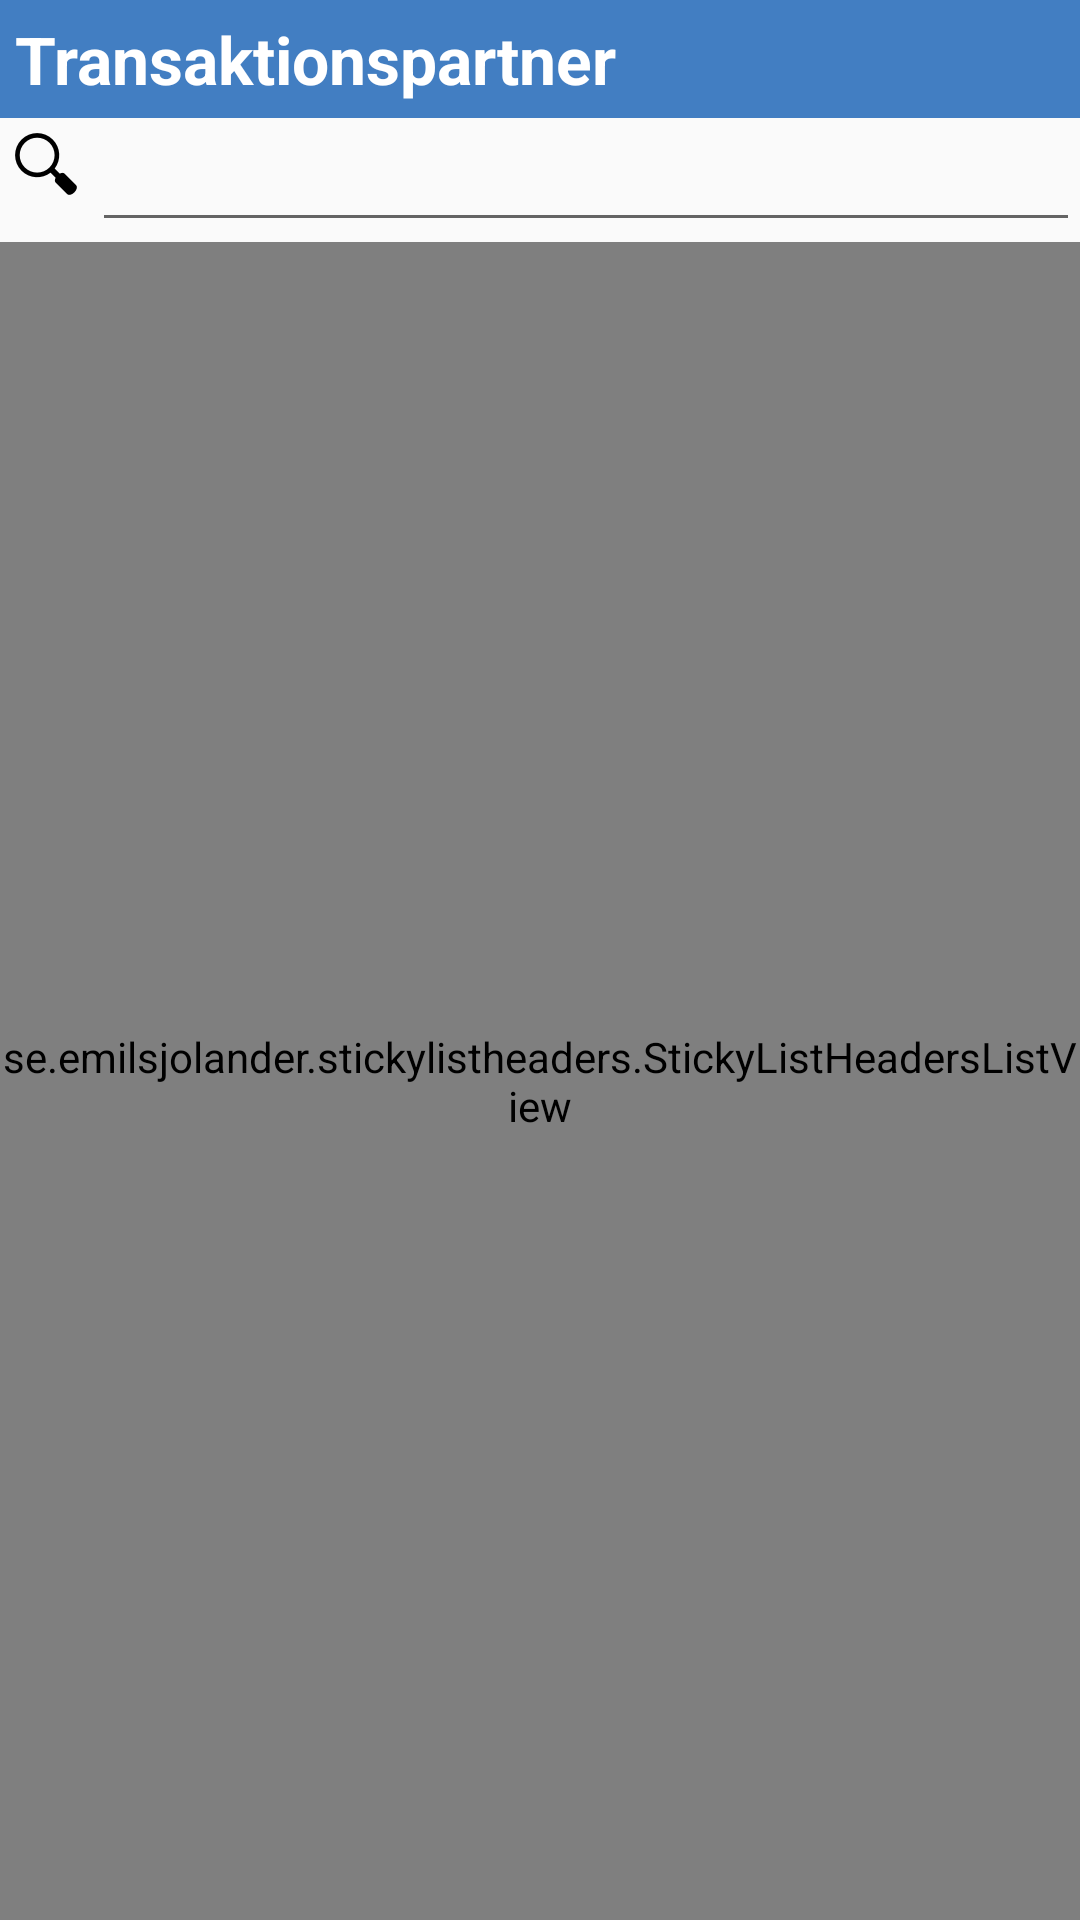

Screen size 1080px x 1920px. Icon name, then its box in pixels as (left=x1, top=y1, right=x2, bottom=y2):
search: (left=15, top=133, right=77, bottom=195)
